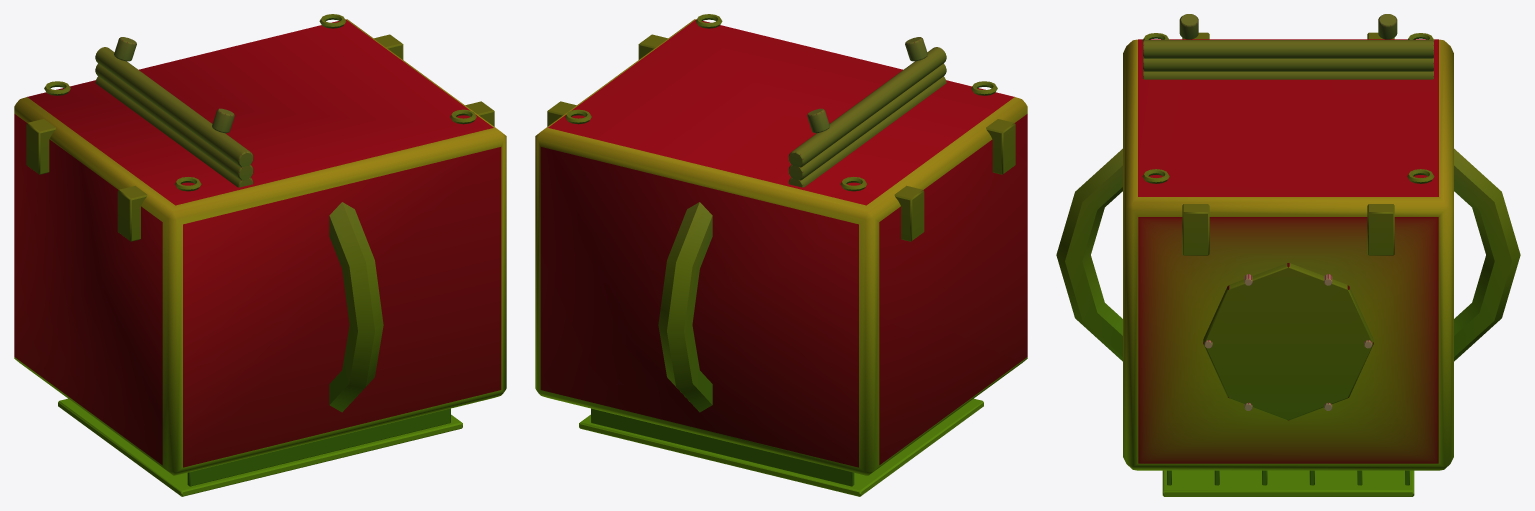
Rendered from RCLModule_surge_tank_antimatter_containment_lattice.fbx.
The picture shows the model from 3 angles, left to right: view 1: azimuth 30°, elevation 25°; view 2: azimuth 150°, elevation 25°; view 3: azimuth 270°, elevation 25°; orthographic projection.
Parts seen in each view (by area): view 1: RCLModule_surge_tank_antimatter_containment_lattice_Batch_RC (×2); view 2: RCLModule_surge_tank_antimatter_containment_lattice_Batch_RC (×2); view 3: RCLModule_surge_tank_antimatter_containment_lattice_Batch_RC (×2).
Boxes of the visible parts, <box> form: RCLModule_surge_tank_antimatter_containment_lattice_Batch_RC (×2): <box>14,14,506,496</box>; RCLModule_surge_tank_antimatter_containment_lattice_Batch_RC (×2): <box>535,14,1027,496</box>; RCLModule_surge_tank_antimatter_containment_lattice_Batch_RC (×2): <box>1056,14,1520,496</box>.
Bounding box in the file's own units: 59.36 × 56.69 × 64.56.
